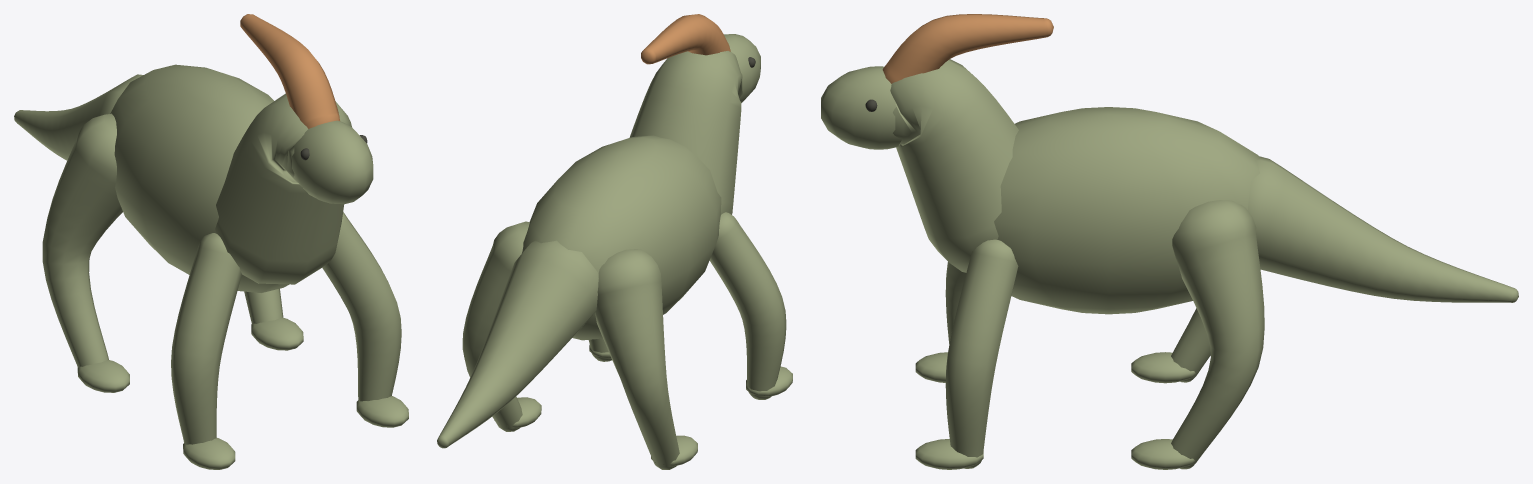
The model's file is parasaurolophus.glb.
3 views of the same model, side by side, from view 1: azimuth 30°, elevation 25°; view 2: azimuth 150°, elevation 25°; view 3: azimuth 270°, elevation 25° (orthographic). The views are drawn at different scales.
Visible parts, largest first — view 1: parasaurolophus; view 2: parasaurolophus; view 3: parasaurolophus.
Boxes of the visible parts, x1,y1,x2,y2 form: parasaurolophus: (14,14,408,469); parasaurolophus: (437,14,792,469); parasaurolophus: (821,14,1518,469).
Size of the model in its own units: 3.42 by 5.82 by 9.
